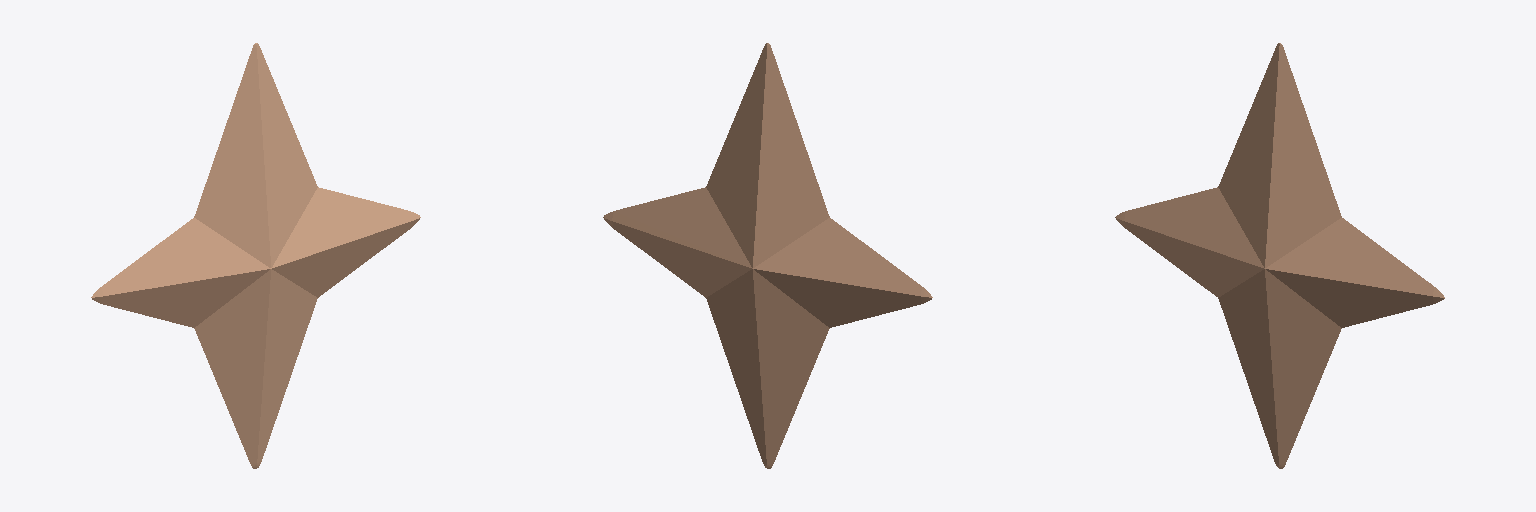
The model's file is star-4.obj.
The picture shows the model from 3 angles: view 1: azimuth 30°, elevation 25°; view 2: azimuth 150°, elevation 25°; view 3: azimuth 330°, elevation 25°; orthographic projection.
Visible parts, largest first — view 1: Cylinder002; view 2: Cylinder002; view 3: Cylinder002.
Boxes of the visible parts, <box> form: Cylinder002: <box>91,43,420,468</box>; Cylinder002: <box>603,43,932,468</box>; Cylinder002: <box>1115,43,1444,468</box>.
Size of the model in its own units: 6.97 by 8.63 by 1.12.